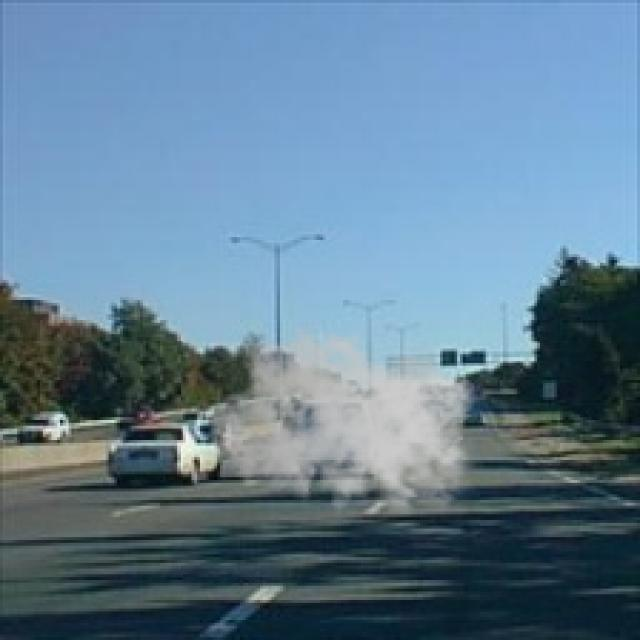Smoke: (208, 326, 486, 526)
